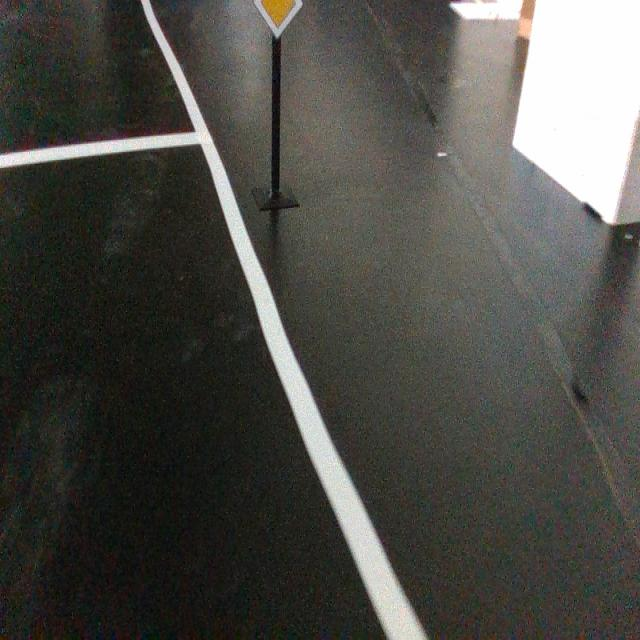priority-sign: (251, 0, 303, 39)
